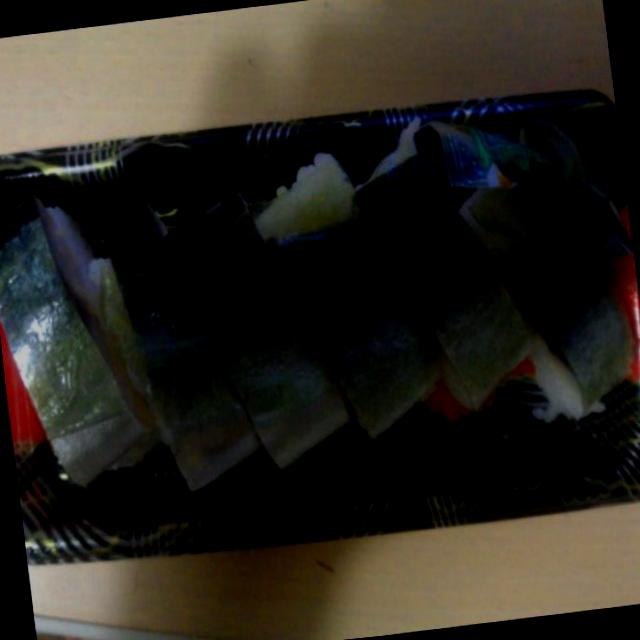Sushi: (0, 115, 622, 519)
